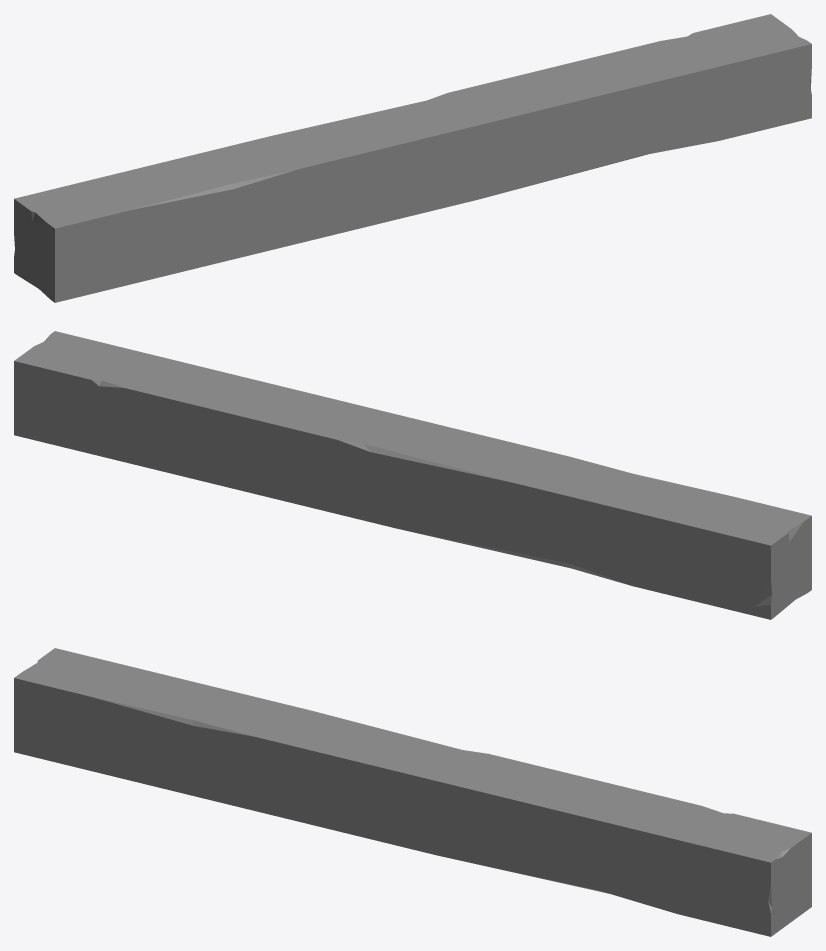
The model's file is SW_ENV_ConcreteBeam_4m.fbx.
3 views of the same model, one above another, from view 1: azimuth 30°, elevation 25°; view 2: azimuth 150°, elevation 25°; view 3: azimuth 330°, elevation 25° (orthographic).
Parts seen in each view (by area): view 1: SW_ENV_ConcreteBeam_4m; view 2: SW_ENV_ConcreteBeam_4m; view 3: SW_ENV_ConcreteBeam_4m.
Boxes of the visible parts, bbox=[...] form: SW_ENV_ConcreteBeam_4m: bbox=[14, 14, 811, 302]; SW_ENV_ConcreteBeam_4m: bbox=[14, 331, 811, 619]; SW_ENV_ConcreteBeam_4m: bbox=[14, 648, 811, 936].
Bounding box in the file's own units: 400 × 37.5 × 37.5.
